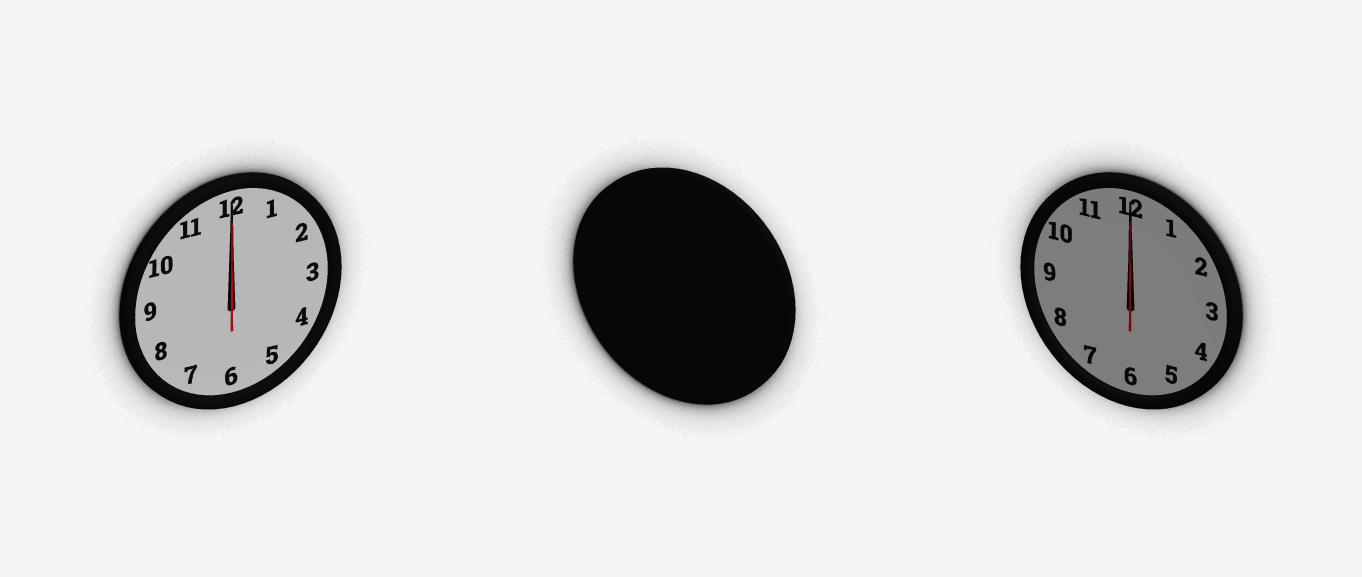
The model's file is clock.glb.
3 renders of one model, left to right at view 1: azimuth 30°, elevation 25°; view 2: azimuth 150°, elevation 25°; view 3: azimuth 330°, elevation 25°, orthographic.
Parts seen in each view (by area): view 1: clock, clock_ao; view 2: clock_ao, clock; view 3: clock, clock_ao.
Boxes of the visible parts, x1,y1,x2,y2 form: clock: (119, 172, 341, 409); clock_ao: (108, 161, 345, 416); clock_ao: (562, 161, 799, 416); clock: (573, 167, 795, 404); clock: (1020, 172, 1242, 409); clock_ao: (1016, 161, 1253, 415).
Size of the model in its own units: 0.9752 by 0.9752 by 0.0296.
Materials: 2 (2 with a texture image).
